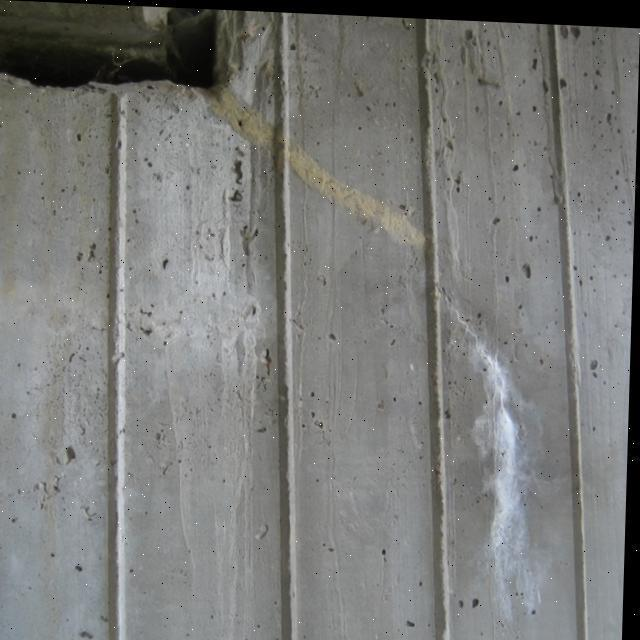D01: (478, 346, 529, 596)
